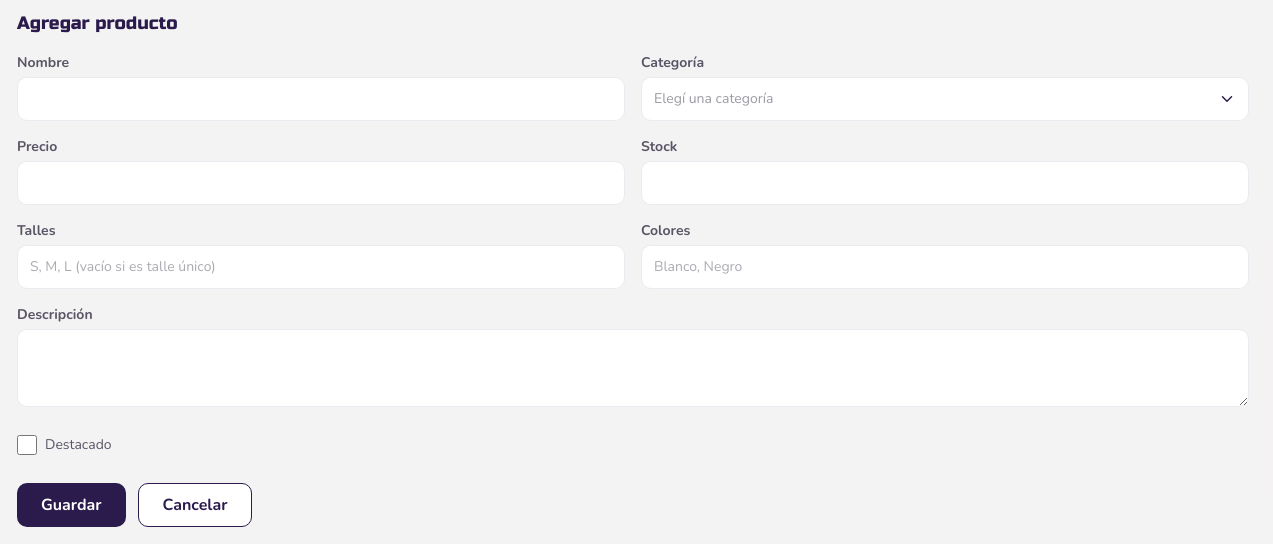
Test: FormularioProducto › carga las categorías de la API en la lista desplegable
This screenshot has width=1273, height=544.
Click the dropdown labelled "categoría" at (714, 98), box [641,77,1249,121]
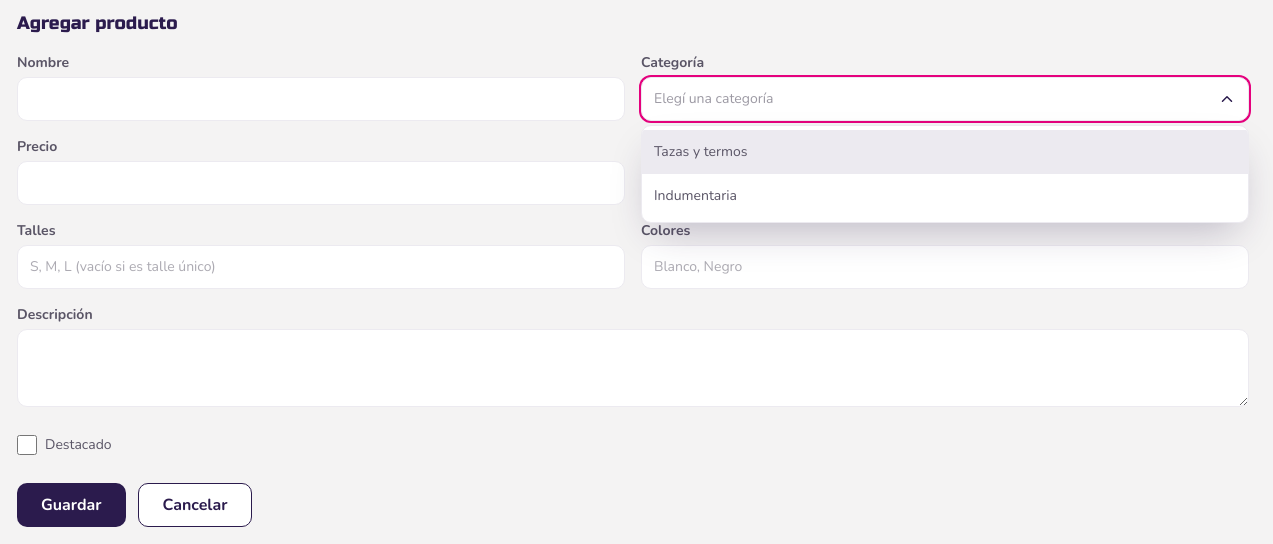
Now the option "Tazas y termos" is shown, box [642,130,1248,174]
Now the option "Indumentaria" is shown, box [654,186,737,205]
